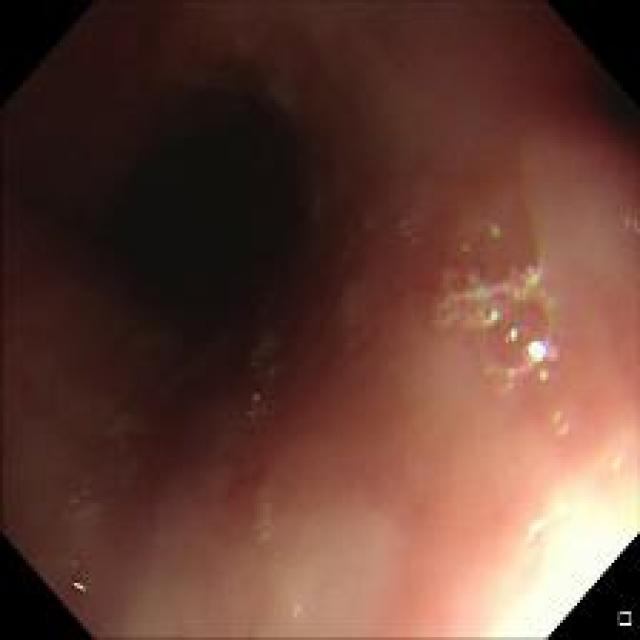bubbles: (430, 205, 572, 394)
color misalignment: (440, 265, 560, 324), (485, 342, 560, 386), (549, 406, 578, 442), (485, 221, 511, 245), (500, 324, 535, 341), (450, 239, 474, 260)
contrast: (91, 98, 354, 388)
saturation: (479, 491, 626, 628)
specularity: (530, 339, 545, 361), (70, 578, 86, 595)
